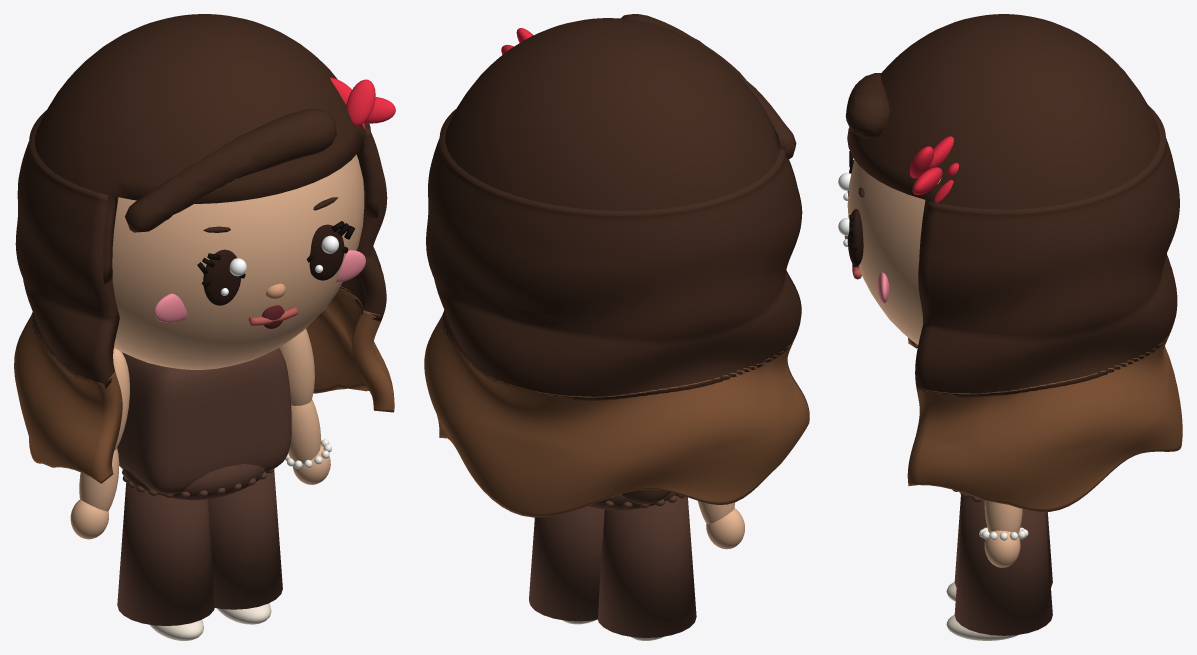
Rendered from her.glb.
3 views of the same model, side by side, from view 1: azimuth 30°, elevation 25°; view 2: azimuth 150°, elevation 25°; view 3: azimuth 270°, elevation 25° (orthographic).
Parts seen in each view (by area): view 1: HerCrown, HerHeadMesh, HerCurtain, HerTop, HerCurtainEnds, HerPantsR, HerFringe, HerPantsL, HerSeat, HerUpperL, HerForeL, HerEyeR (+11 smaller); view 2: HerCurtain, HerCrown, HerCurtainEnds, HerPantsR, HerPantsL, HerFringe, HerHandR, HerTop; view 3: HerCurtain, HerCrown, HerCurtainEnds, HerPantsL, HerHeadMesh, HerFringe, HerForeL, HerHandL, HerEyeL, HerShoeL, Petal0, Petal1 (+1 smaller).
Part boxes in pixels (x1,y1,x2,y2): HerCrown: (34,14,378,283); HerHeadMesh: (112,154,364,369); HerCurtain: (15,110,387,388); HerTop: (117,348,291,494); HerCurtainEnds: (14,286,394,483); HerPantsR: (117,482,214,625); HerFringe: (125,108,336,232); HerPantsL: (208,471,282,609); HerSeat: (123,464,268,500); HerUpperL: (279,328,314,405); HerForeL: (288,399,320,463); HerEyeR: (203,249,240,305); HerCurtain: (426,109,802,400); HerCrown: (445,18,780,326); HerCurtainEnds: (424,312,809,517); HerPantsR: (598,496,696,637); HerPantsL: (529,506,604,621); HerFringe: (621,14,796,158); HerHandR: (706,508,744,549); HerTop: (621,489,670,504); HerCurtain: (915,105,1179,397); HerCrown: (847,14,1166,266); HerCurtainEnds: (907,332,1182,511); HerPantsL: (954,497,1052,635); HerHeadMesh: (847,159,925,344); HerFringe: (845,73,889,138); HerForeL: (984,501,1022,533); HerHandL: (984,530,1020,567); HerEyeL: (847,209,863,266); HerShoeL: (946,615,1017,640); Petal0: (912,167,942,195); Petal1: (909,146,933,178).
Bounding box in the file's own units: 0.93 × 1.59 × 0.8412.
